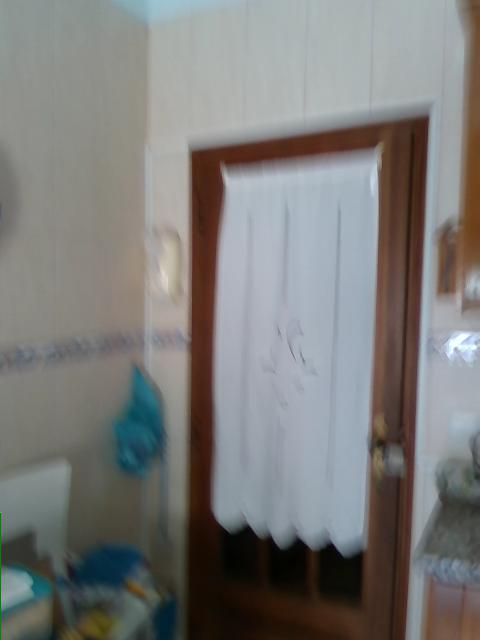door: (185, 115, 429, 639)
